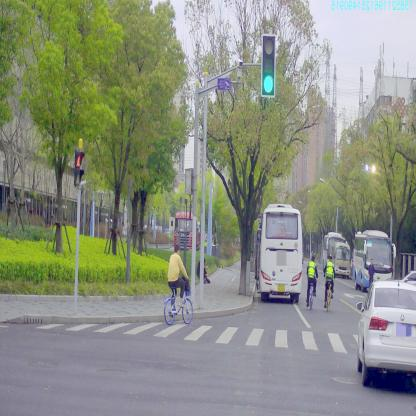traffic-light: (262, 36, 276, 95)
